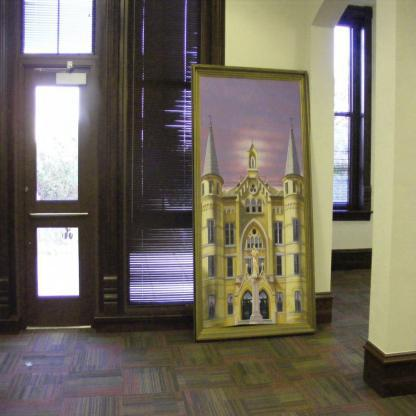door: (21, 69, 98, 324)
